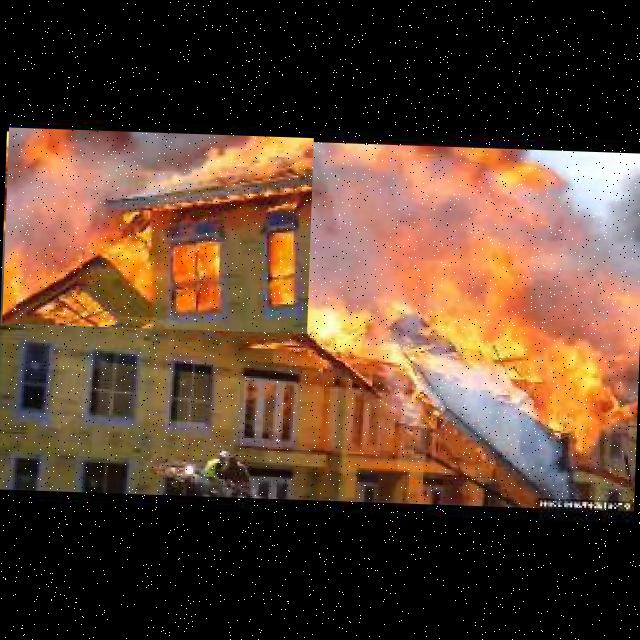fire: (315, 141, 640, 370), (2, 127, 314, 334)
